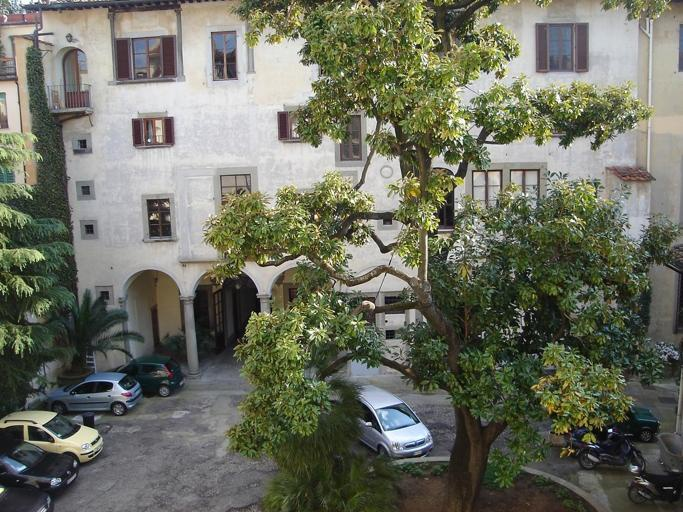non-vehicle: (567, 425, 646, 474), (625, 459, 682, 505)
